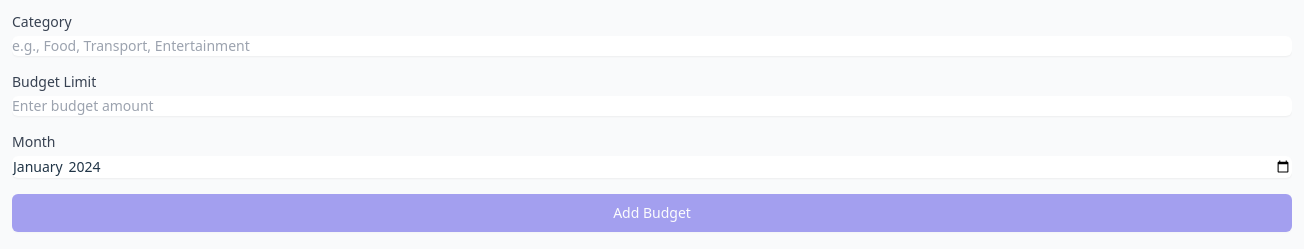
Test: BudgetForm › enables submit button when all fields are valid
Type "Food" into the field labelled "Category".
click(652, 46); type("Food")  # box [12,36,1292,56]
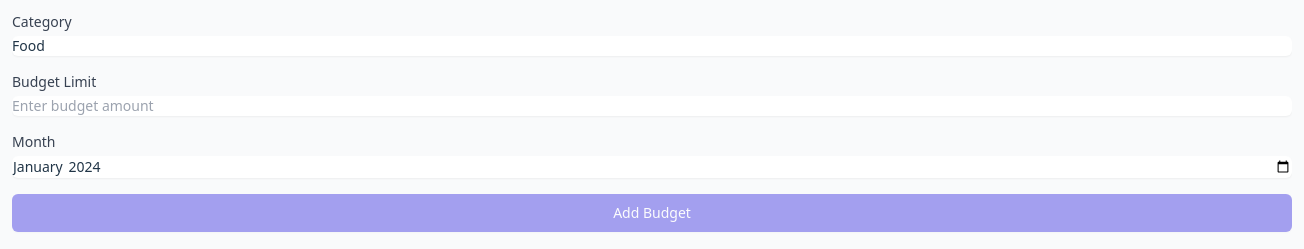
Type "500" into the number field labelled "Budget Limit".
click(652, 106); type("500")  # box [12,96,1292,116]
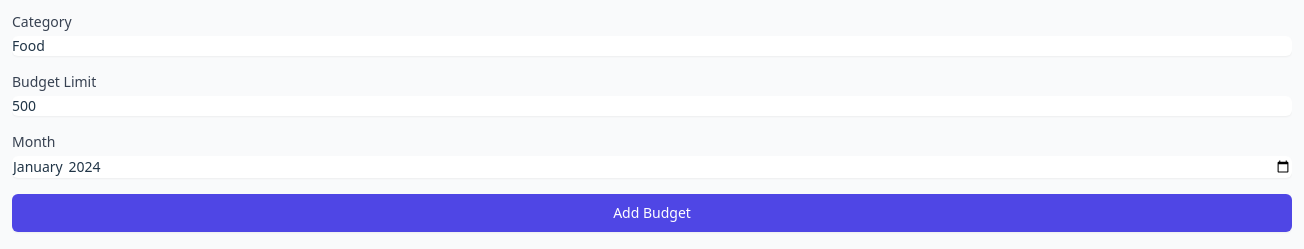
Now the button "Add Budget" is enabled, box [12,194,1292,232]
